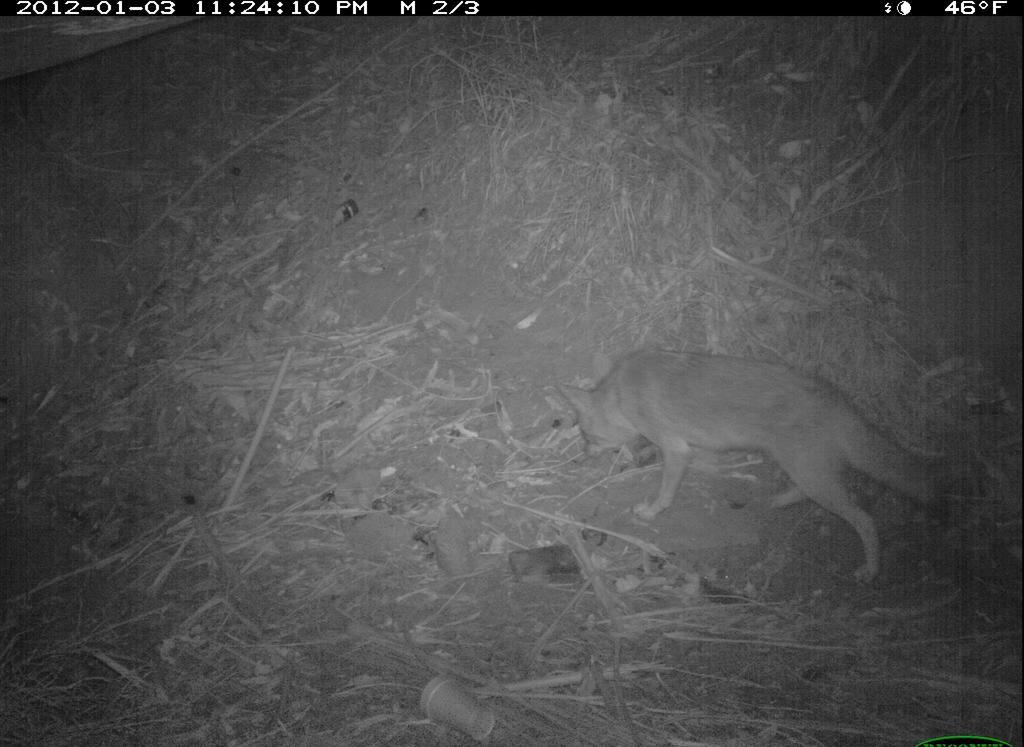coyote: (553, 342, 953, 593)
